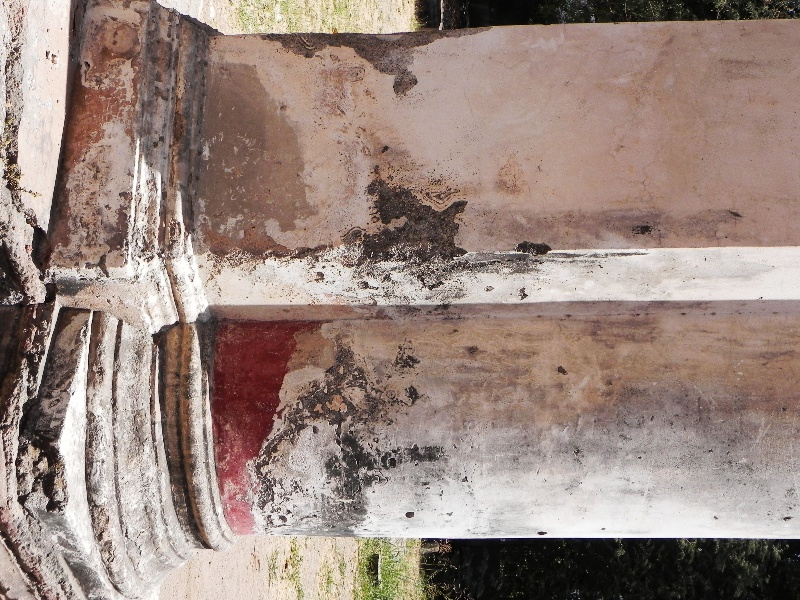Spalling: (259, 22, 488, 101), (344, 178, 474, 276), (13, 437, 68, 515)
